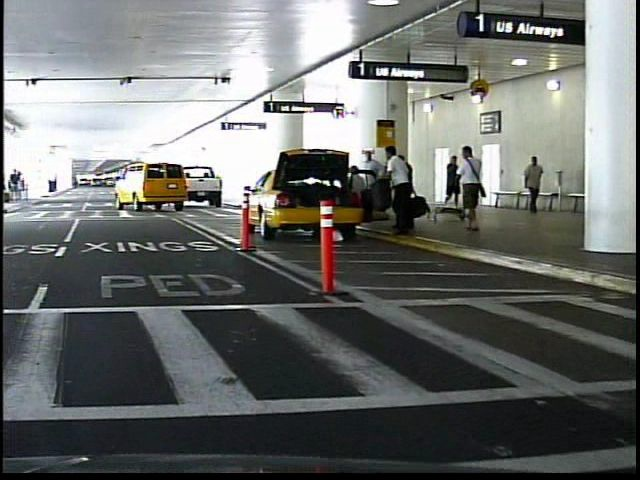person: (452, 143, 488, 234), (515, 151, 540, 213)
